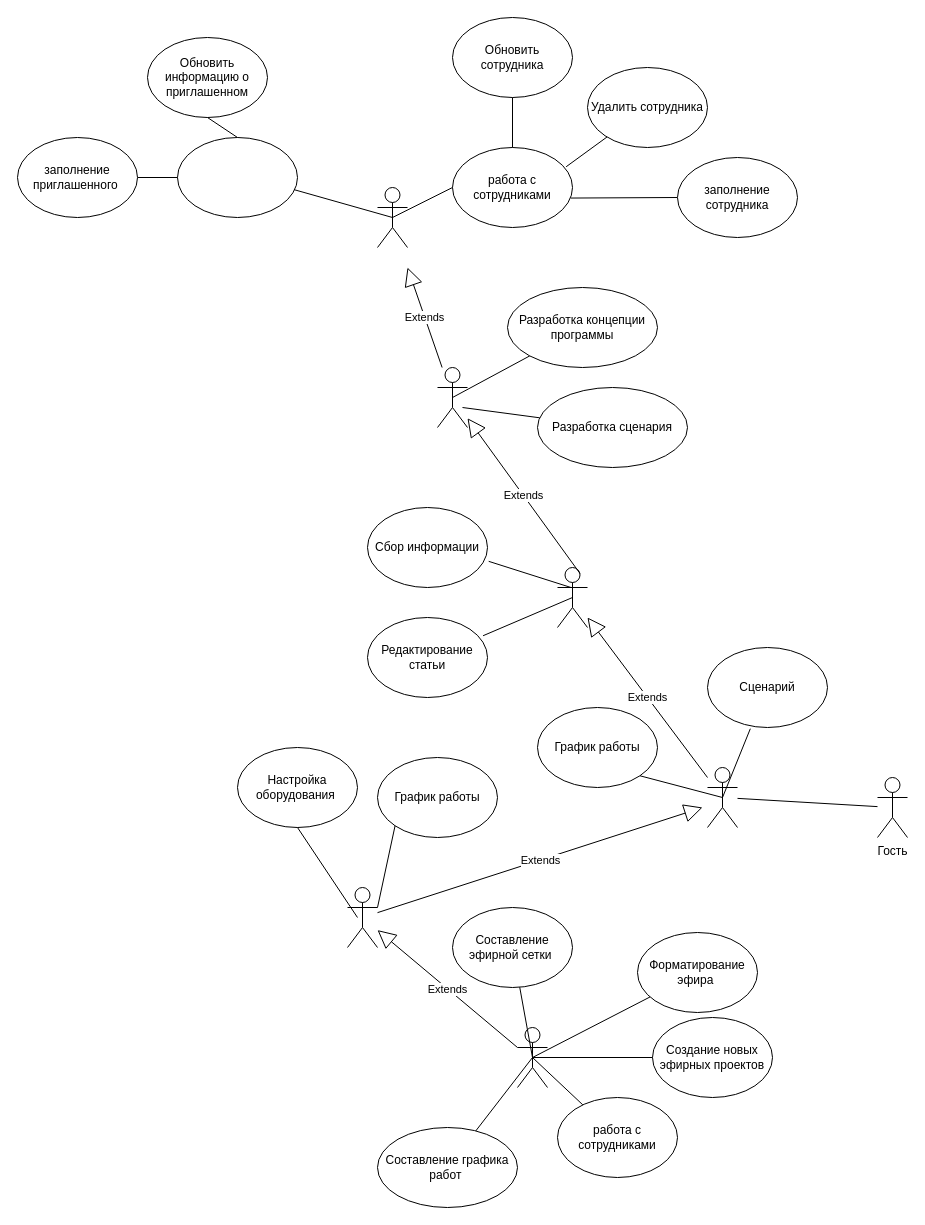
Image size: 925x1225. Some labels were removed from this diagram. The shapes that lost their labels are listed below. From the top down, each one's centre as x and y in pixels, then its label:
At point 237,177: "работа с гостем".
At point 392,217: "Admin".
At point 452,397: "Редактор".
At point 572,597: "Корреспондент".
At point 722,797: "Ведущий".
At point 362,917: "Оператор".
At point 532,1057: "Директор".
